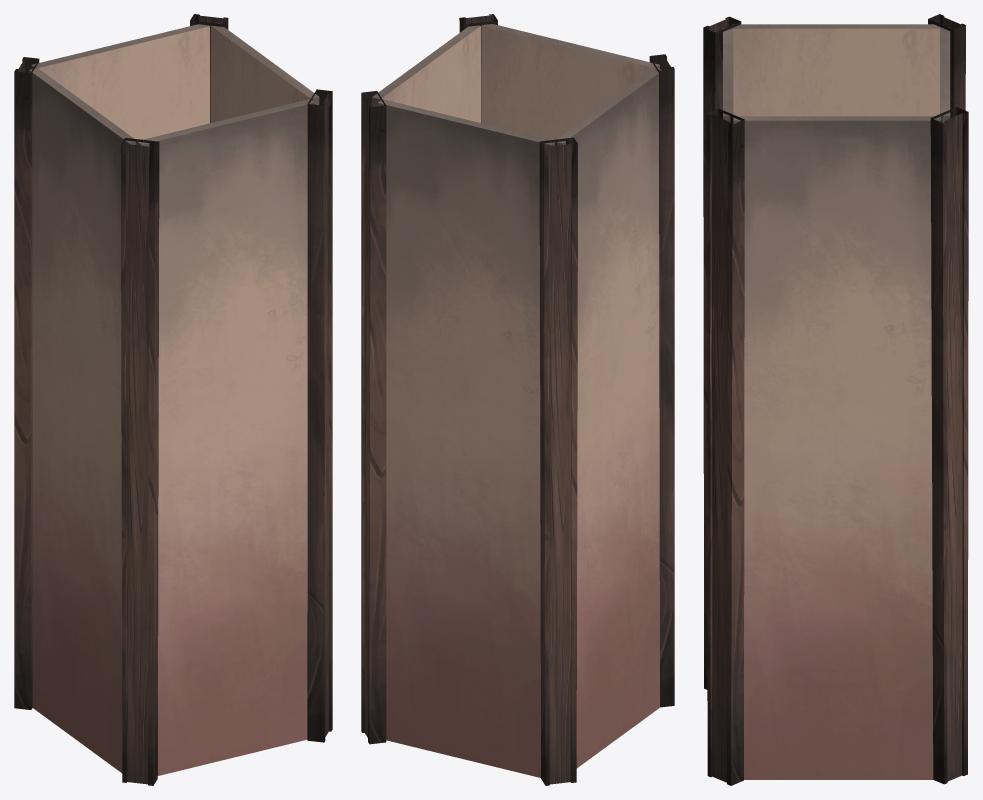
File: Wall_Mid_Half_Pillar_V1.fbx
3 views of the same model, side by side, from view 1: azimuth 30°, elevation 25°; view 2: azimuth 150°, elevation 25°; view 3: azimuth 270°, elevation 25° (orthographic). The views are drawn at different scales.
Visible parts, largest first — view 1: Mid_HalfPillar; view 2: Mid_HalfPillar; view 3: Mid_HalfPillar.
Boxes of the visible parts, <box> form: Mid_HalfPillar: <box>14,14,332,785</box>; Mid_HalfPillar: <box>361,14,674,785</box>; Mid_HalfPillar: <box>703,14,968,785</box>.
Bounding box in the file's own units: 0.0151 × 0.0422 × 0.0153.
